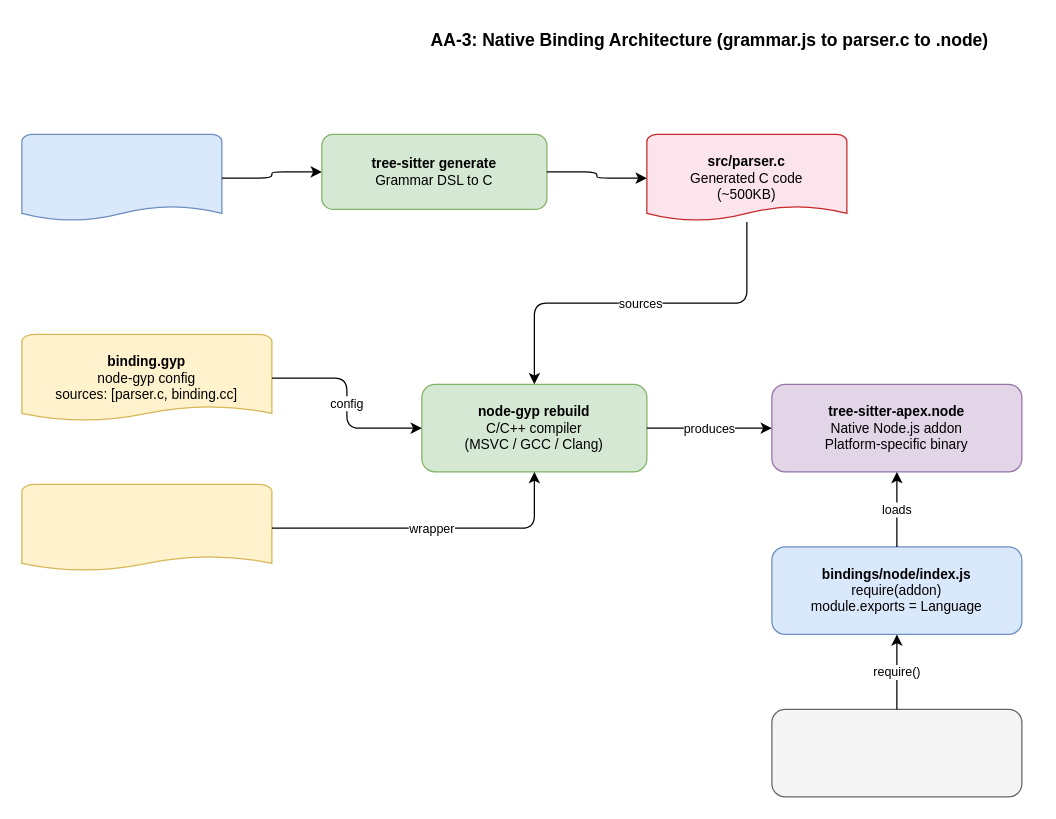
This 1056x819 diagram has some shape labels left out. The shapes that lost their labels are listed below. From the top down, each one's box as (x1, y1, x2, y2) in pixels, then its label:
(21, 133, 222, 222): grammar.js Apex Grammar DSL (inherits sfapex)
(21, 483, 272, 572): bindings/node/binding.cc N-API wrapper tree_sitter_apex()
(771, 708, 1022, 797): Consumer App const Parser = require('tree-sitter') parser.setLanguage(apex)
